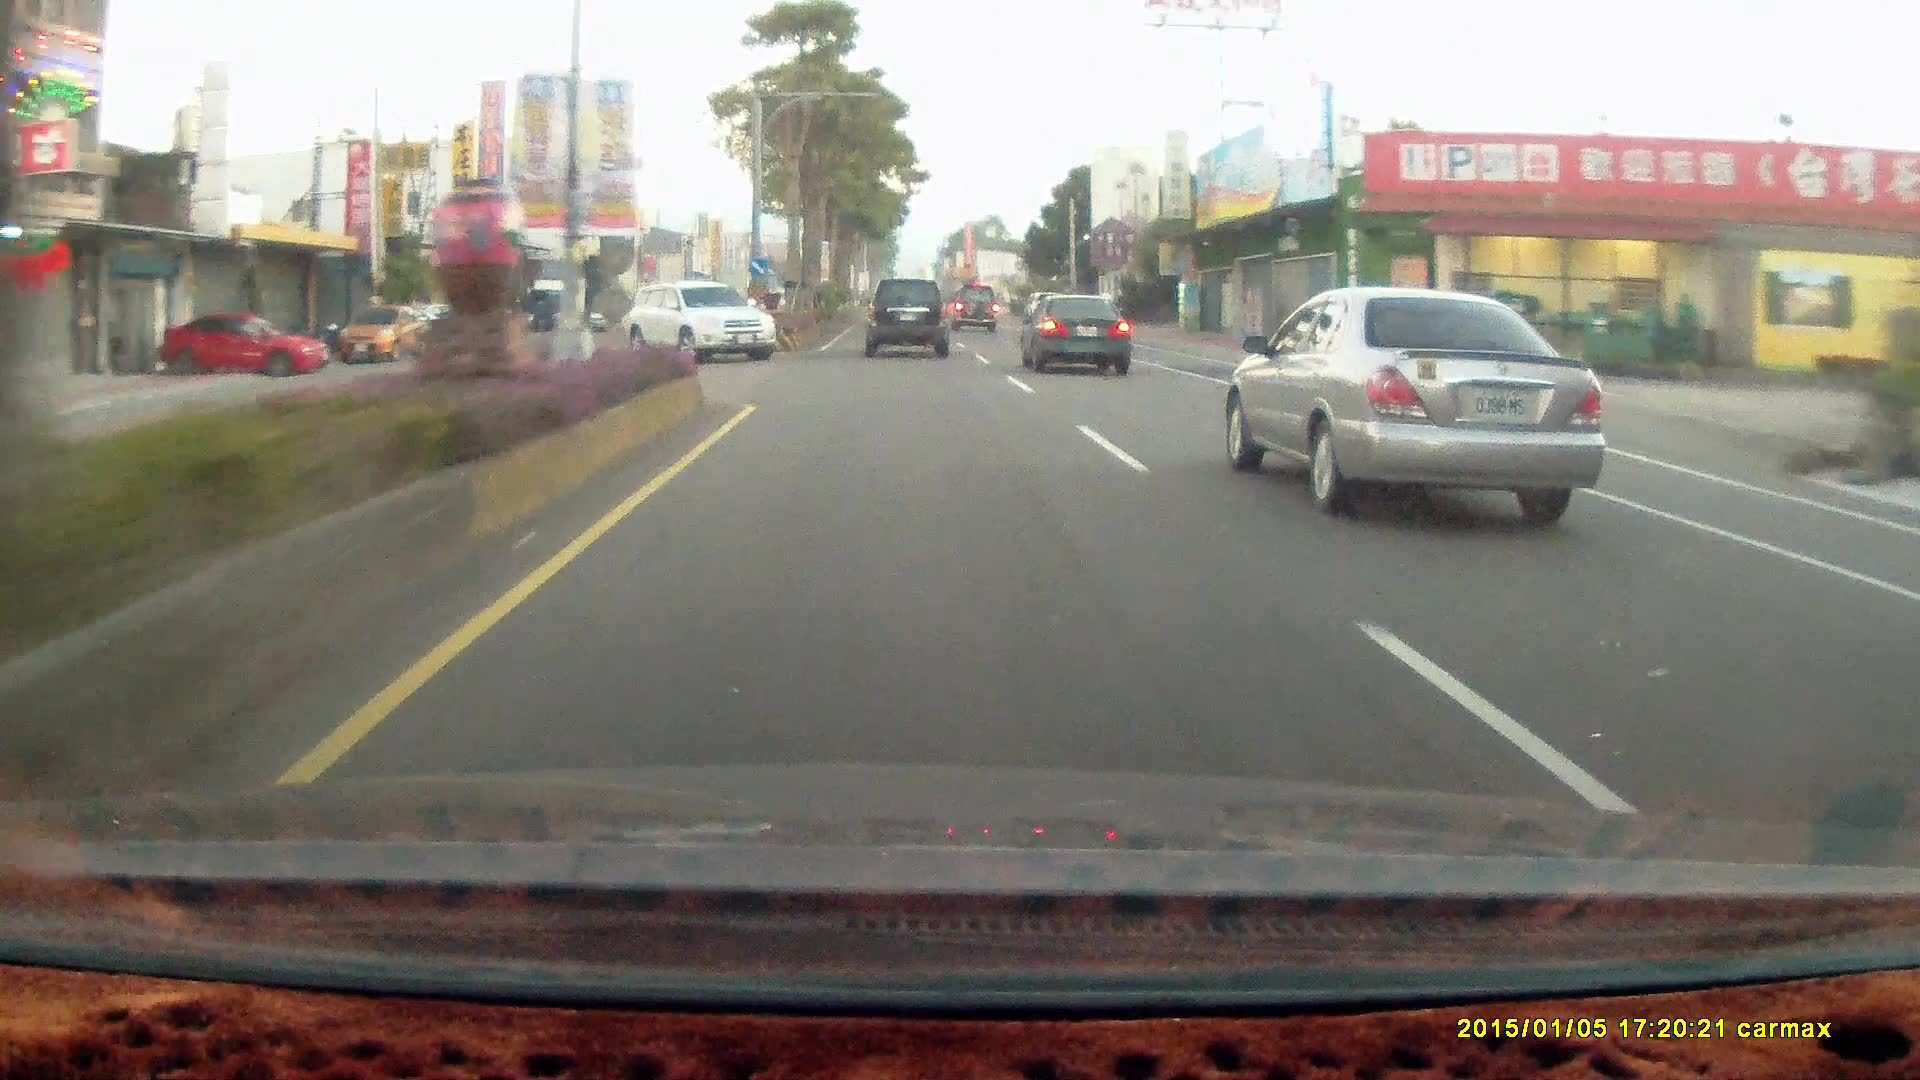vehicle: (1245, 284, 1618, 518), (621, 276, 777, 364), (636, 277, 781, 360), (160, 311, 331, 376), (157, 314, 328, 378), (1017, 291, 1130, 375), (1025, 295, 1135, 375), (334, 302, 458, 367), (869, 278, 957, 357), (862, 276, 947, 353), (335, 305, 425, 361), (392, 302, 481, 347), (948, 282, 1000, 335)
